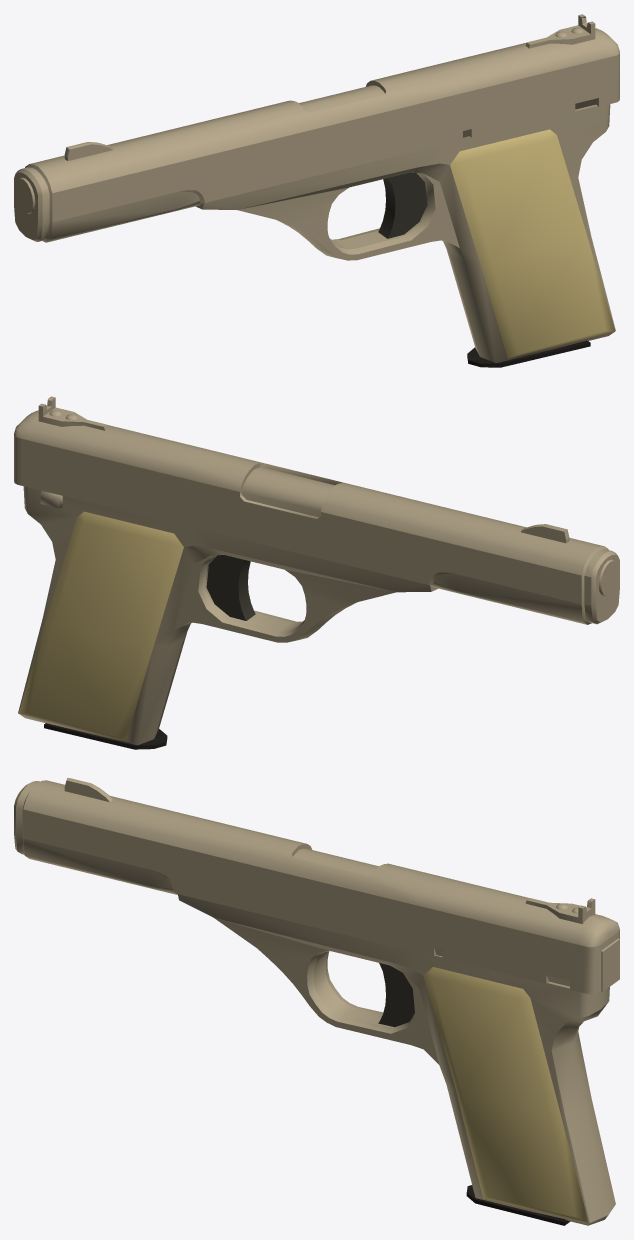
The model's file is weapon_vintagepistol.glb.
3 views of the same model, one above another, from view 1: azimuth 30°, elevation 25°; view 2: azimuth 150°, elevation 25°; view 3: azimuth 330°, elevation 25° (orthographic).
Parts seen in each view (by area): view 1: slide_vintagepistol, main_frame_vintagepistol, trigger_vintagepistol, barrel_vintagepistol, rear_sight_vintagepistol, magazine_vintagepistol, front_sight_vintagepistol; view 2: slide_vintagepistol, main_frame_vintagepistol, barrel_vintagepistol, trigger_vintagepistol, rear_sight_vintagepistol, magazine_vintagepistol, front_sight_vintagepistol; view 3: main_frame_vintagepistol, slide_vintagepistol, trigger_vintagepistol, barrel_vintagepistol, rear_sight_vintagepistol, magazine_vintagepistol, front_sight_vintagepistol.
Part boxes in pixels (x1,y1,x2,y2): slide_vintagepistol: (14, 28, 619, 242); main_frame_vintagepistol: (196, 104, 615, 362); trigger_vintagepistol: (378, 172, 427, 238); barrel_vintagepistol: (15, 85, 385, 213); rear_sight_vintagepistol: (525, 14, 595, 48); magazine_vintagepistol: (463, 137, 590, 367); front_sight_vintagepistol: (64, 142, 112, 160); slide_vintagepistol: (14, 410, 619, 624); main_frame_vintagepistol: (18, 486, 438, 745); barrel_vintagepistol: (242, 467, 618, 596); trigger_vintagepistol: (206, 555, 255, 620); rear_sight_vintagepistol: (38, 396, 108, 430); magazine_vintagepistol: (44, 723, 167, 749); front_sight_vintagepistol: (521, 524, 569, 543); main_frame_vintagepistol: (178, 894, 615, 1225); slide_vintagepistol: (14, 780, 619, 994); trigger_vintagepistol: (378, 963, 414, 1027); barrel_vintagepistol: (292, 848, 378, 875); rear_sight_vintagepistol: (525, 898, 595, 923); magazine_vintagepistol: (438, 955, 570, 1225); front_sight_vintagepistol: (64, 778, 112, 801).
Size of the model in its own units: 29.18 by 14.96 by 2.66.
3 materials, 3 textured.
